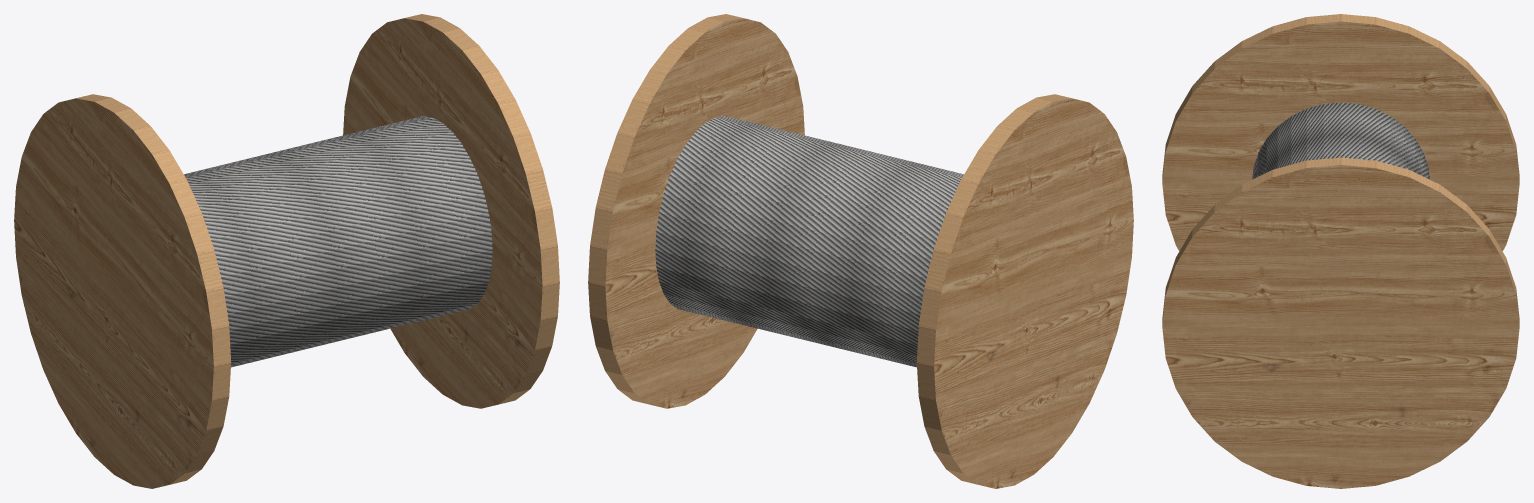
File: coil_resting.glb
3 views of the same model, side by side, from view 1: azimuth 30°, elevation 25°; view 2: azimuth 150°, elevation 25°; view 3: azimuth 270°, elevation 25° (orthographic). The views are drawn at different scales.
Visible parts, largest first — view 1: Cylinder.001, Cylinder.003, Cylinder.002; view 2: Cylinder.001, Cylinder.003, Cylinder.002; view 3: Cylinder.002, Cylinder.001, Cylinder.003.
Boxes of the visible parts, left/top/right/bottom form: Cylinder.001: left=14, top=94, right=231, bottom=488; Cylinder.003: left=184, top=116, right=492, bottom=367; Cylinder.002: left=343, top=14, right=559, bottom=408; Cylinder.001: left=916, top=94, right=1133, bottom=488; Cylinder.003: left=655, top=116, right=963, bottom=367; Cylinder.002: left=588, top=14, right=804, bottom=408; Cylinder.002: left=1162, top=157, right=1519, bottom=488; Cylinder.001: left=1162, top=14, right=1519, bottom=250; Cylinder.003: left=1252, top=102, right=1429, bottom=179.
Bounding box in the file's own units: 2 × 2 × 2.
2 materials, 2 textured.
